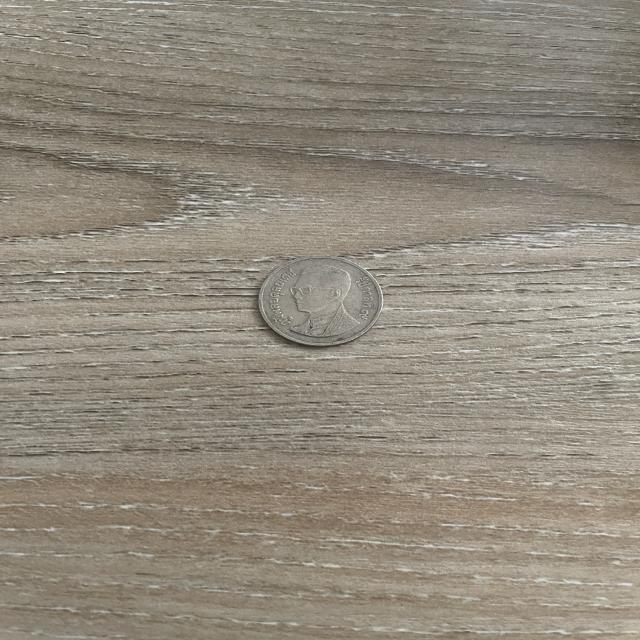1 Bath: (249, 252, 390, 354)
